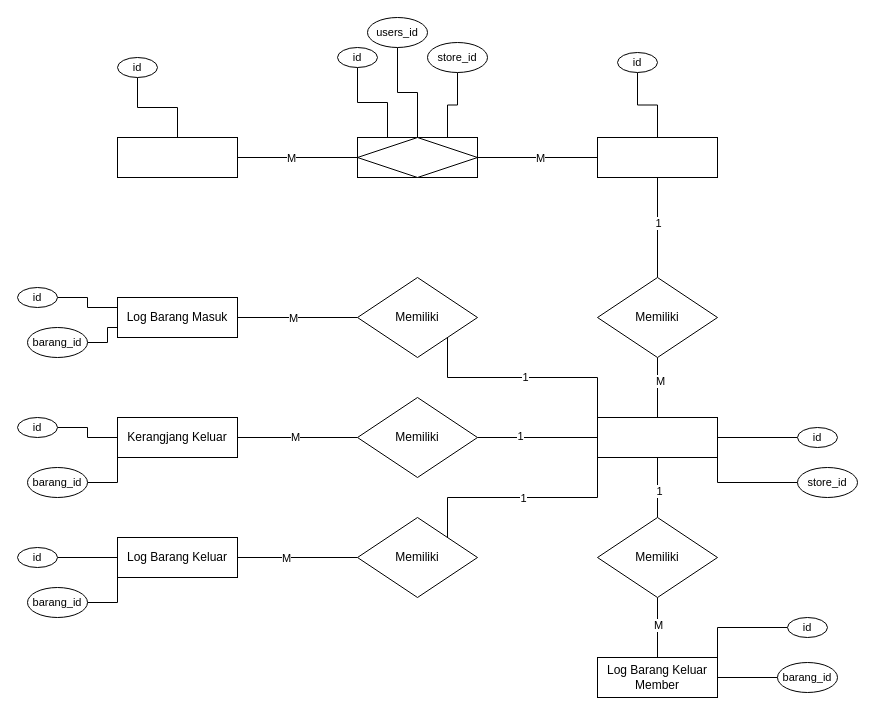
This 875x715 diagram has some shape labels left out. Each missing label, with the centre of its shape:
Barang: (x=657, y=437)
Bekerja: (x=417, y=157)
Store: (x=657, y=157)
Users: (x=177, y=157)
